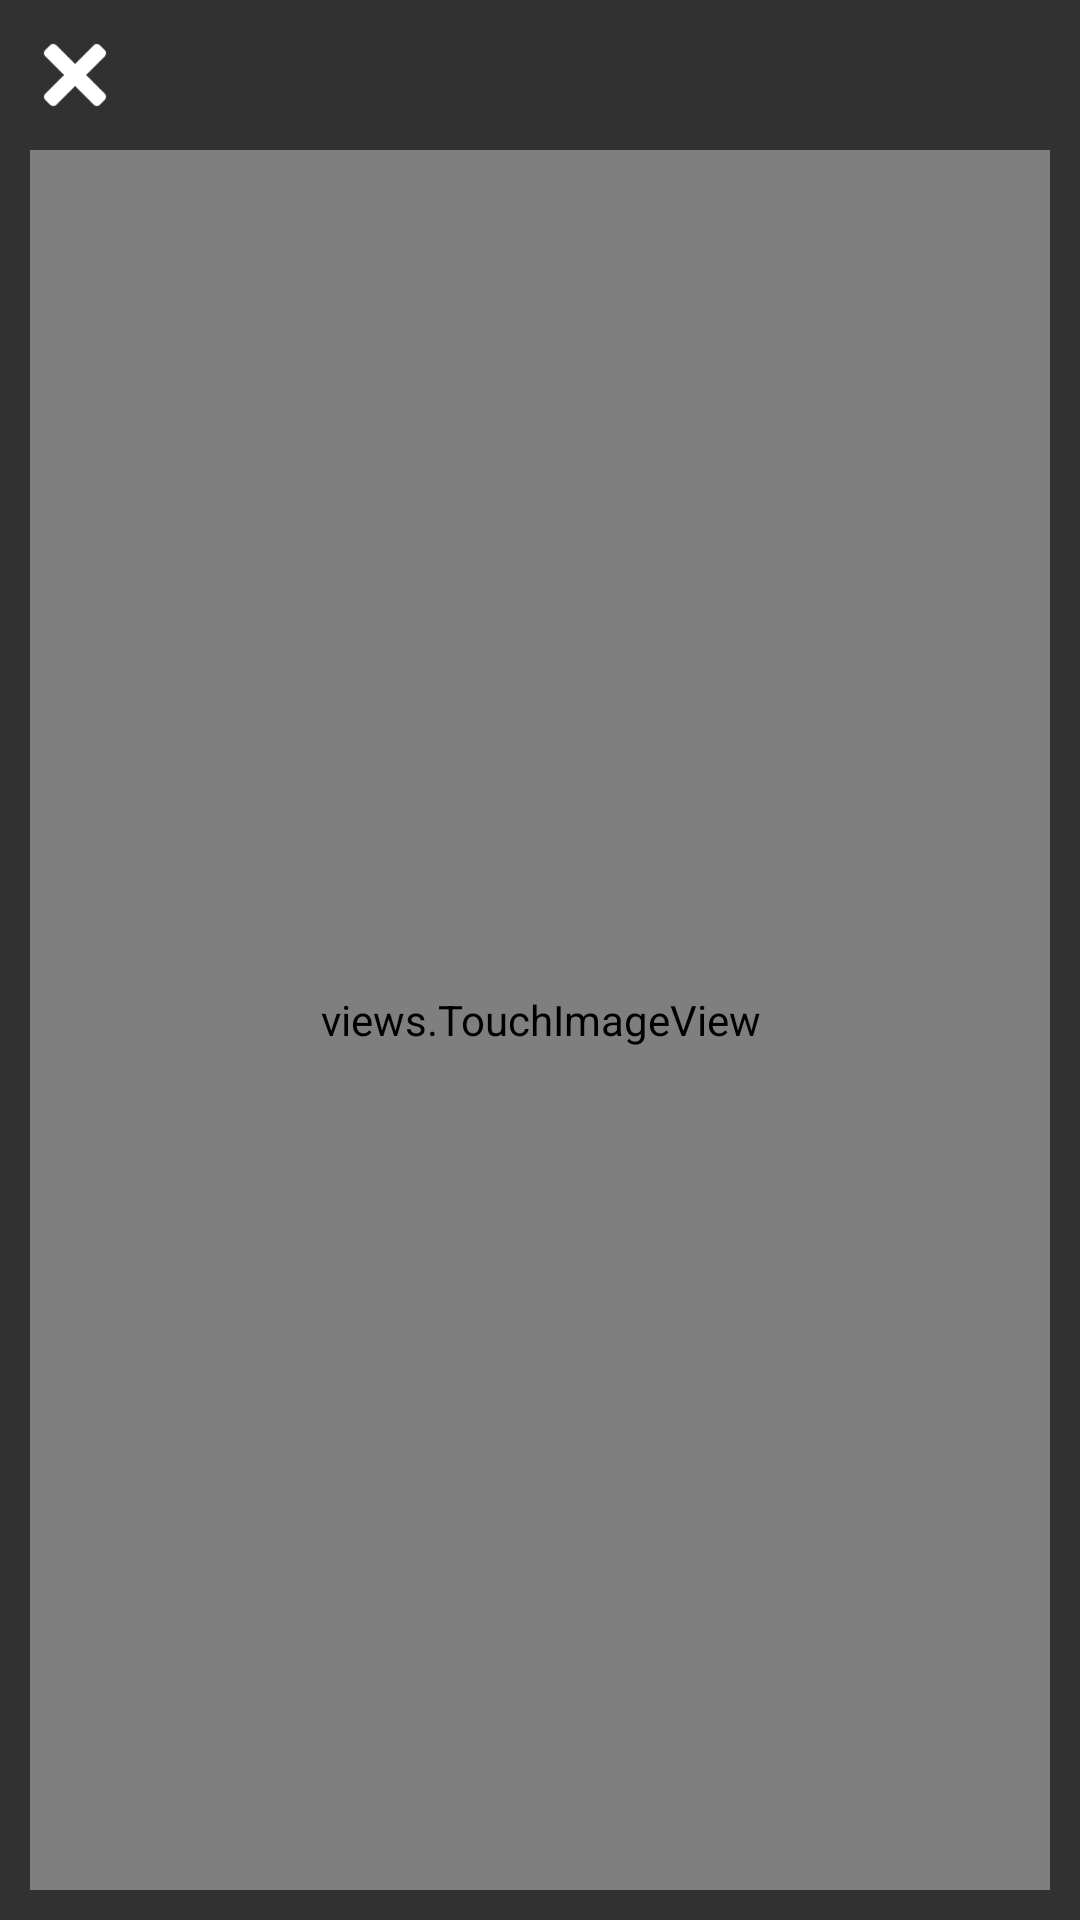

Icons on this 1080×1920 Android screen, each with the point to tap as (x,y):
close: (75,75)
